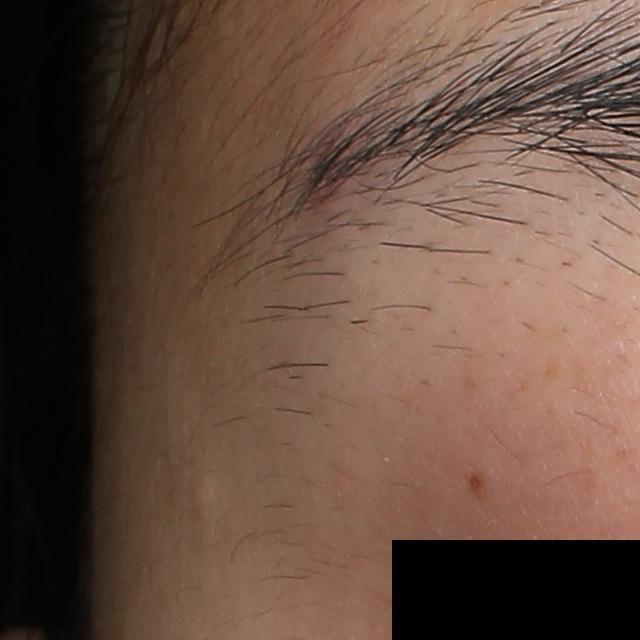comedo: (185, 462, 220, 519)
nevus: (469, 472, 488, 494)
